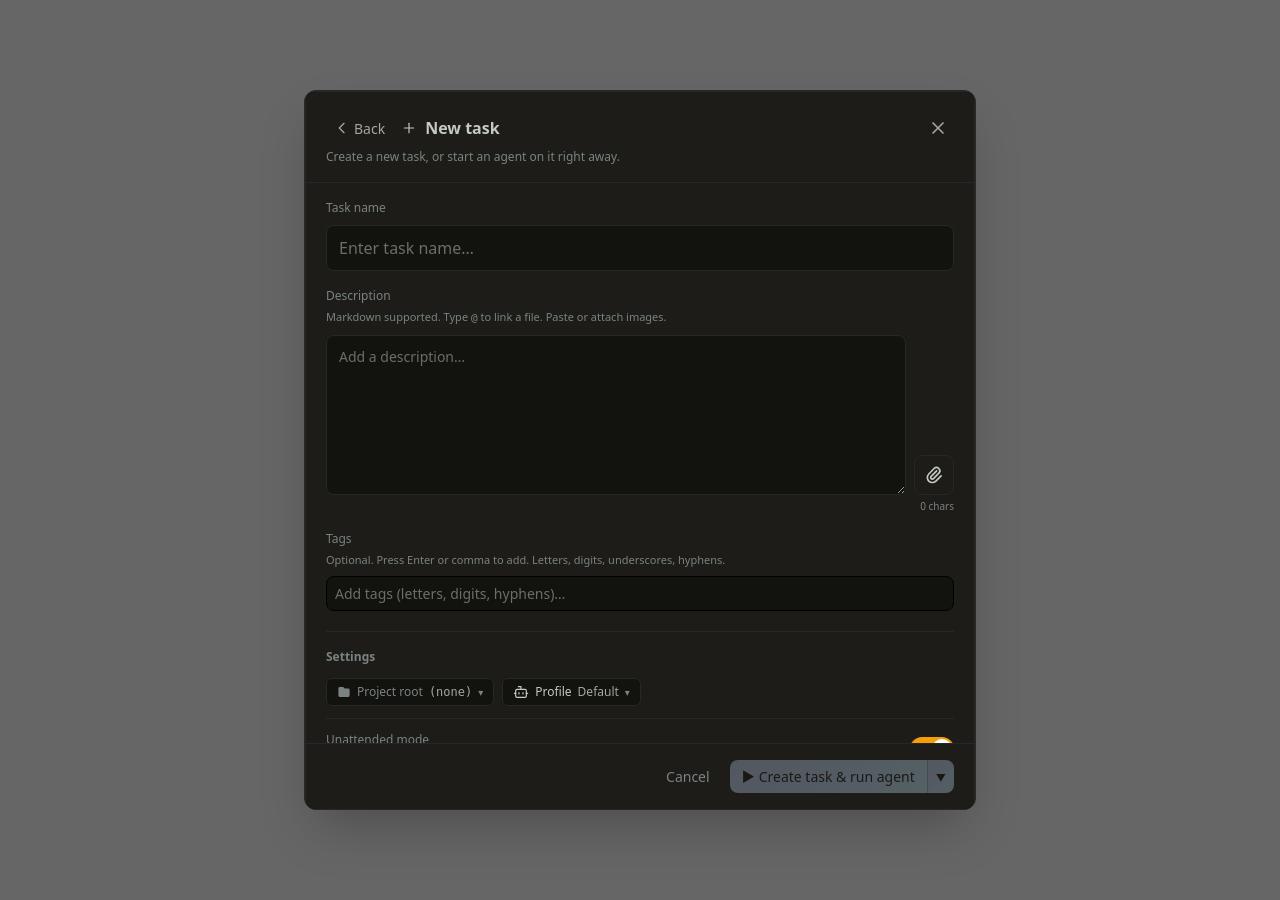
Test case: KanbanTaskDetailDialog — profile picker › handles api.getPabrikConfig failure gracefully (no profiles)
Click the button with test id "kanban-task-detail-profile-picker" at (572, 692), box x1=502 y1=678 x2=641 y2=706
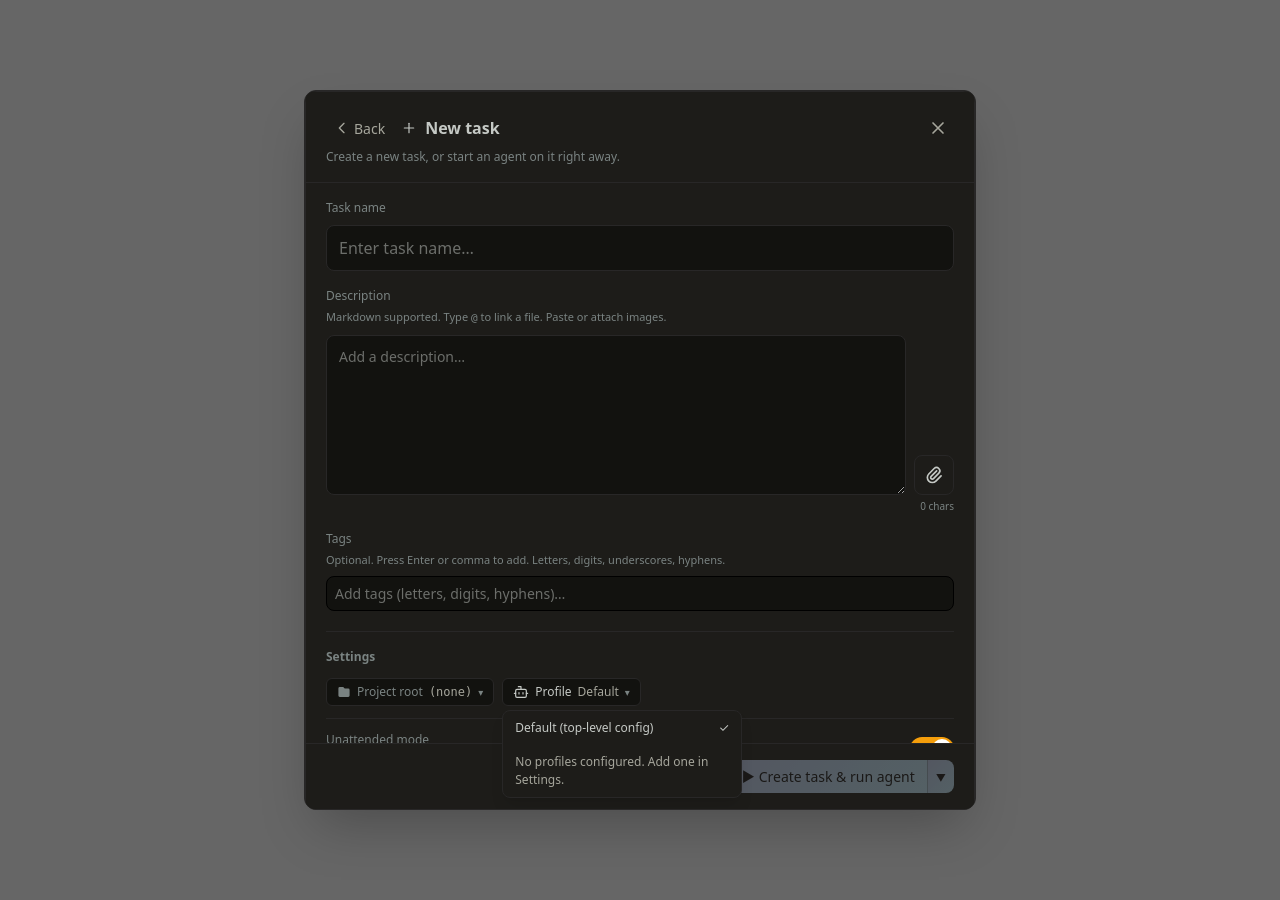
expect the button with test id "kanban-task-detail-profile-picker-item" shows "Default": met, box x1=503 y1=711 x2=741 y2=745
